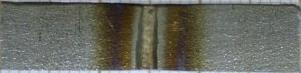soldas: (89, 5, 218, 70)
